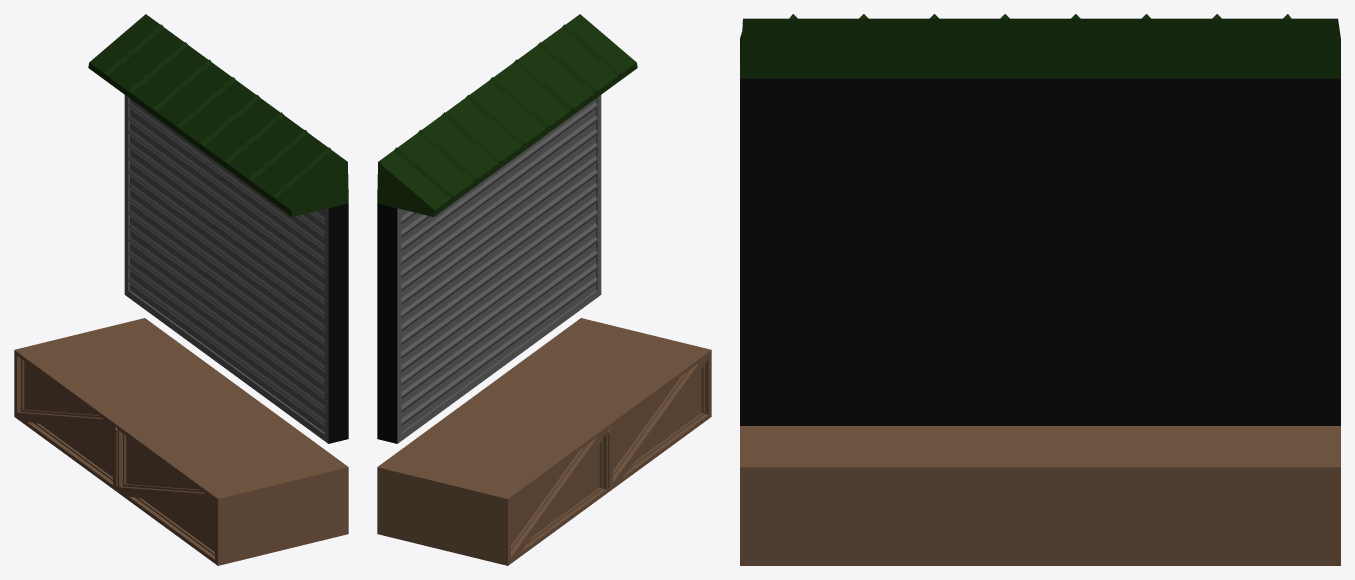
Rendered from Market Low.fbx.
The picture shows the model from 3 angles, left to right: view 1: azimuth 30°, elevation 25°; view 2: azimuth 150°, elevation 25°; view 3: azimuth 270°, elevation 25°; orthographic projection. The views are drawn at different scales.
Visible parts, largest first — view 1: Market, Market Door, Awning, Market Wall; view 2: Market, Market Door, Awning, Market Wall; view 3: Market Wall, Market, Awning.
Part boxes in pixels (<box>): Market: <box>14,318,348,565</box>; Market Door: <box>124,95,328,443</box>; Awning: <box>88,14,348,216</box>; Market Wall: <box>328,203,348,443</box>; Market: <box>377,318,711,565</box>; Market Door: <box>397,95,601,443</box>; Awning: <box>377,14,637,216</box>; Market Wall: <box>377,203,397,443</box>; Market Wall: <box>740,78,1340,425</box>; Market: <box>740,426,1340,565</box>; Awning: <box>740,14,1340,78</box>.
Size of the model in its own units: 202 by 547 by 540.
